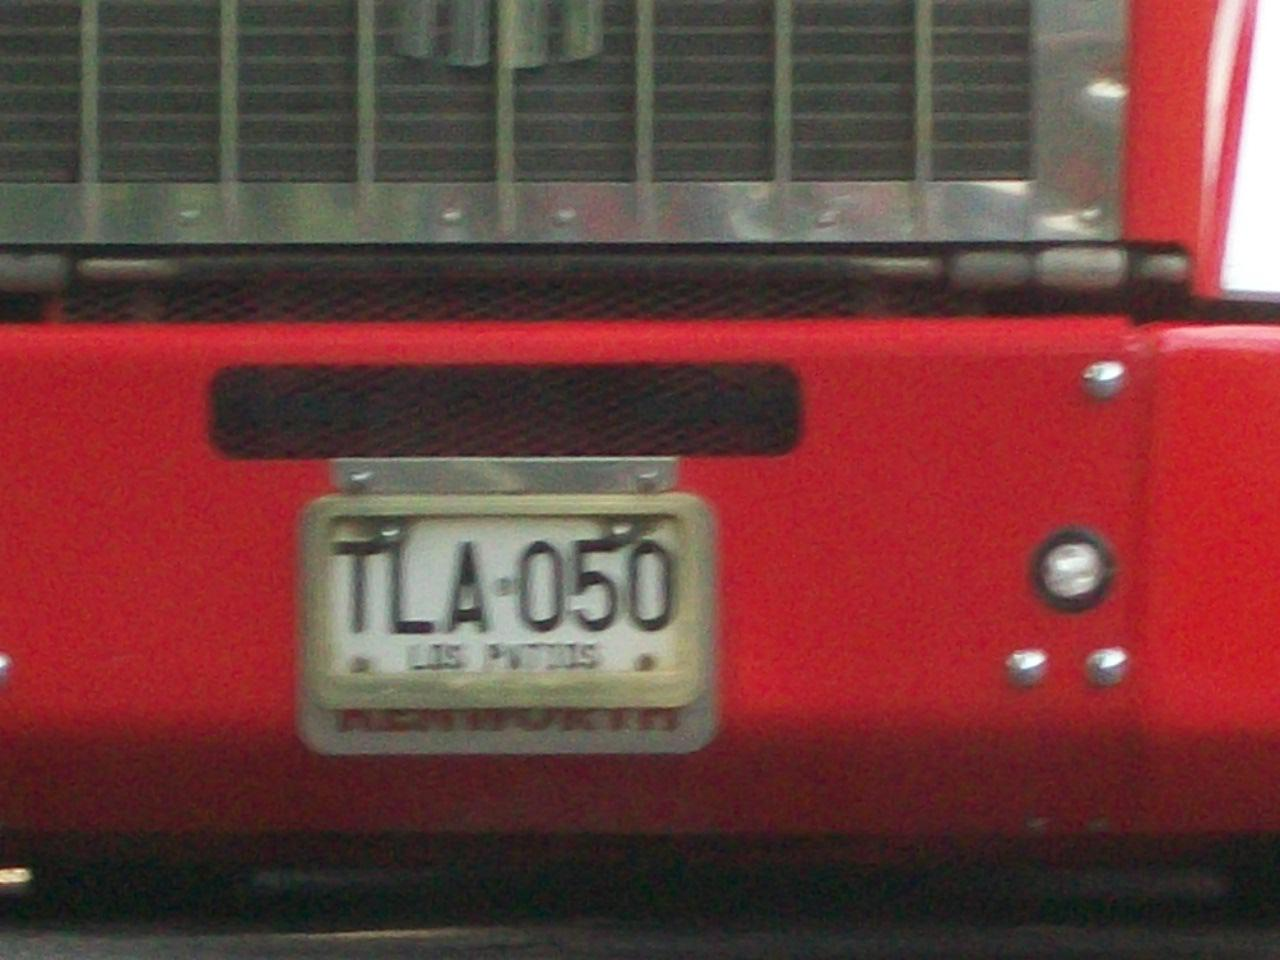placas: (323, 510, 692, 681)
